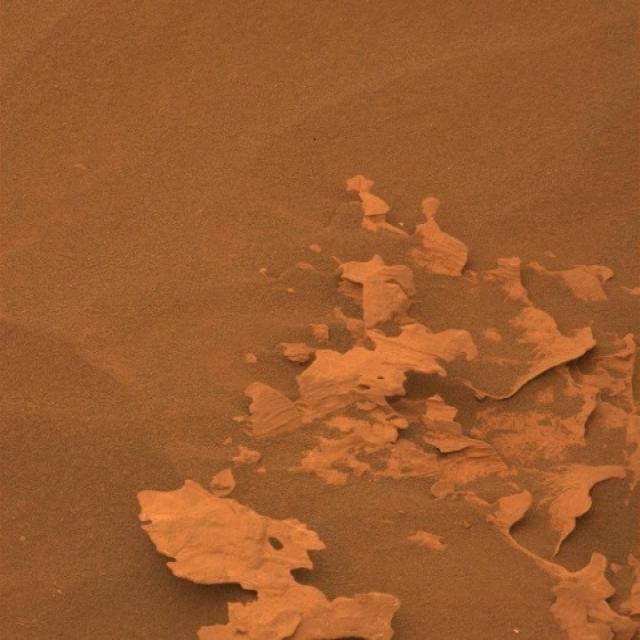rock: (135, 477, 328, 590)
